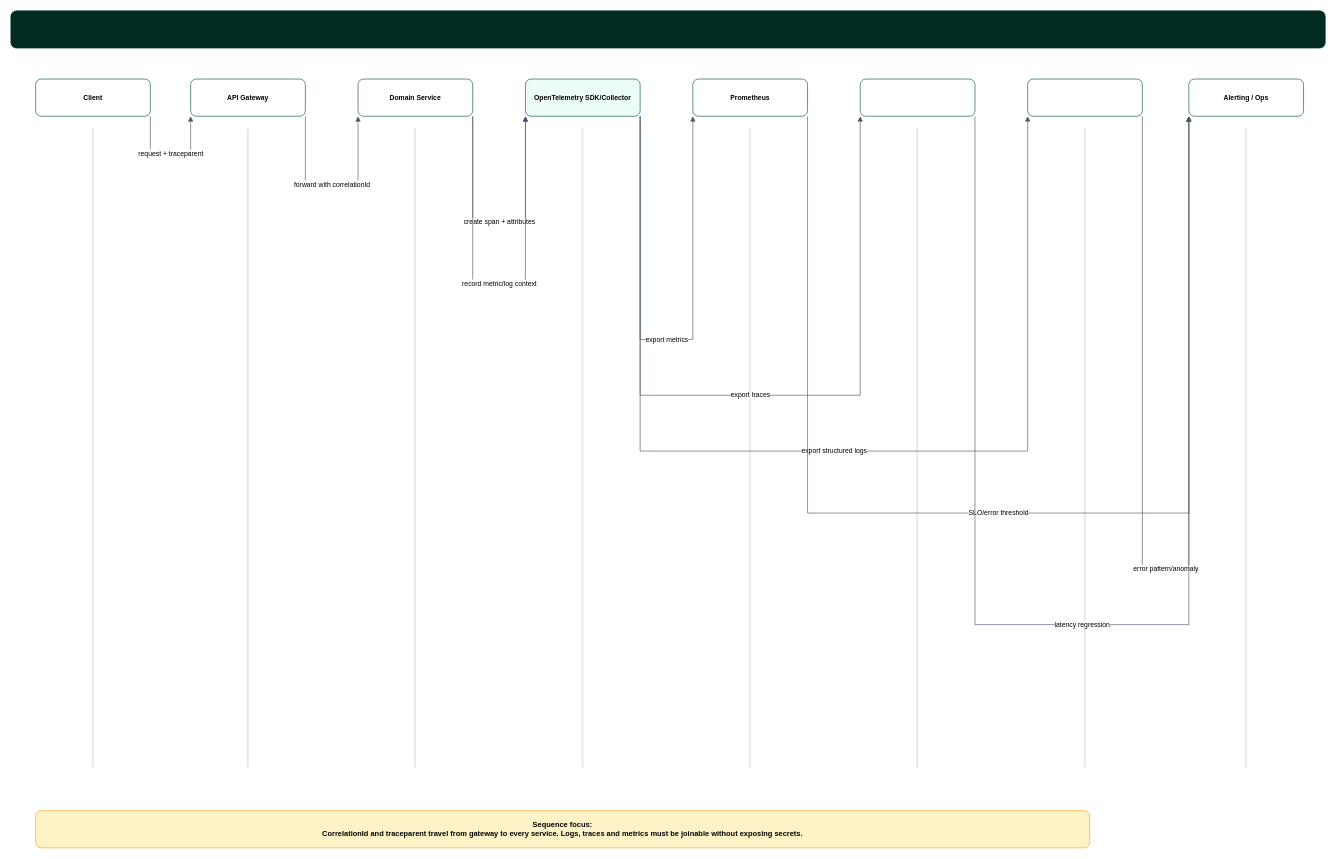
Some shapes in this 1336 by 859 pixel diagram are drawn without their labels. Here are the shapes that lost their labels. From the top down, the centre of each, then its label:
At point 667,29: "Viaverse Observability / Trace / Log / Metric — Sequence Diagram".
At point 917,97: "Jaeger".
At point 1084,97: "OpenSearch Logs".
